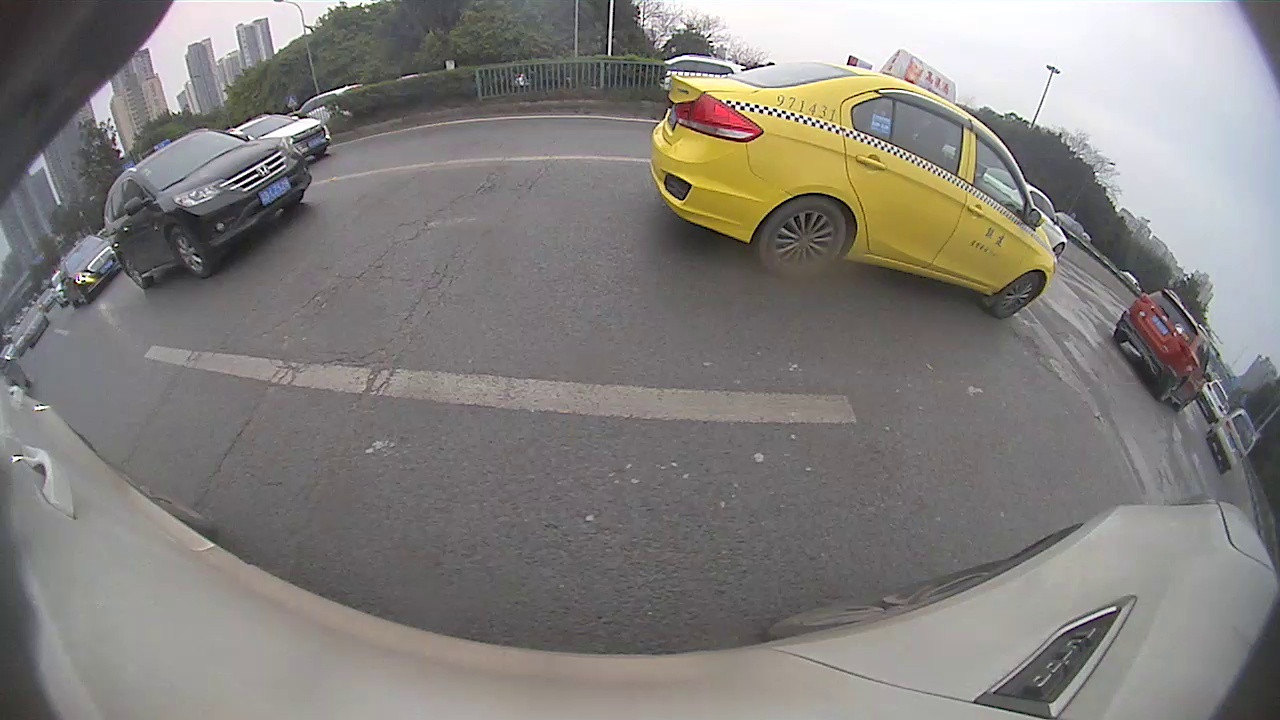car: (649, 46, 1060, 319), (102, 126, 313, 291), (1113, 286, 1212, 414), (223, 111, 331, 161), (62, 236, 124, 309), (1207, 409, 1260, 473)
front: (990, 268, 1045, 321), (171, 226, 215, 280)
rear: (757, 194, 848, 279), (120, 249, 155, 291)
